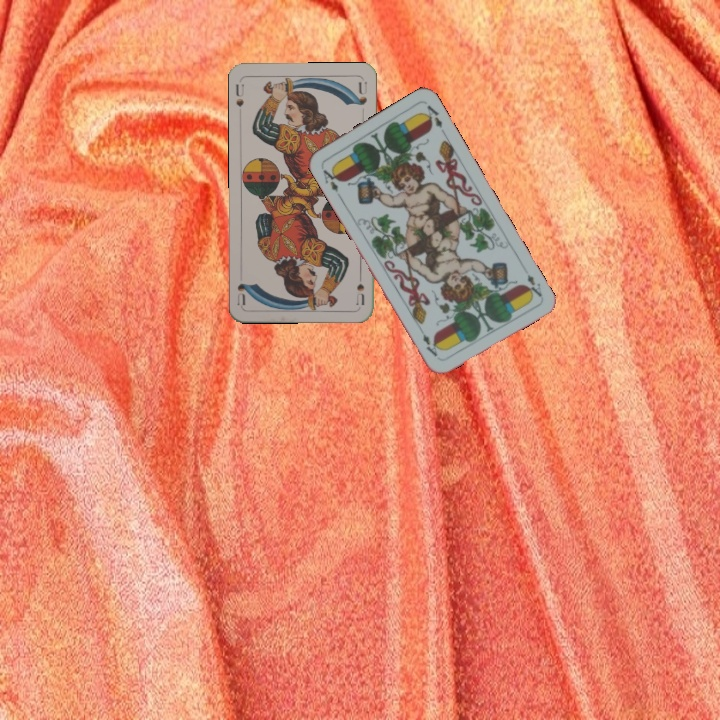EA: (317, 162, 342, 195), (521, 270, 545, 301)
SU: (231, 80, 246, 118), (353, 266, 367, 306)
